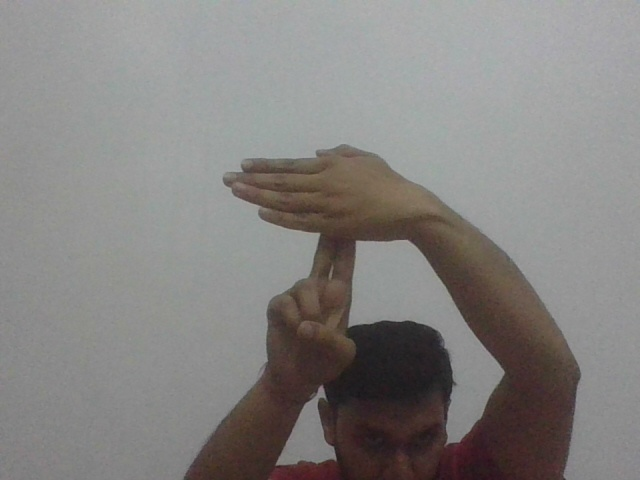N: (216, 143, 403, 277)
